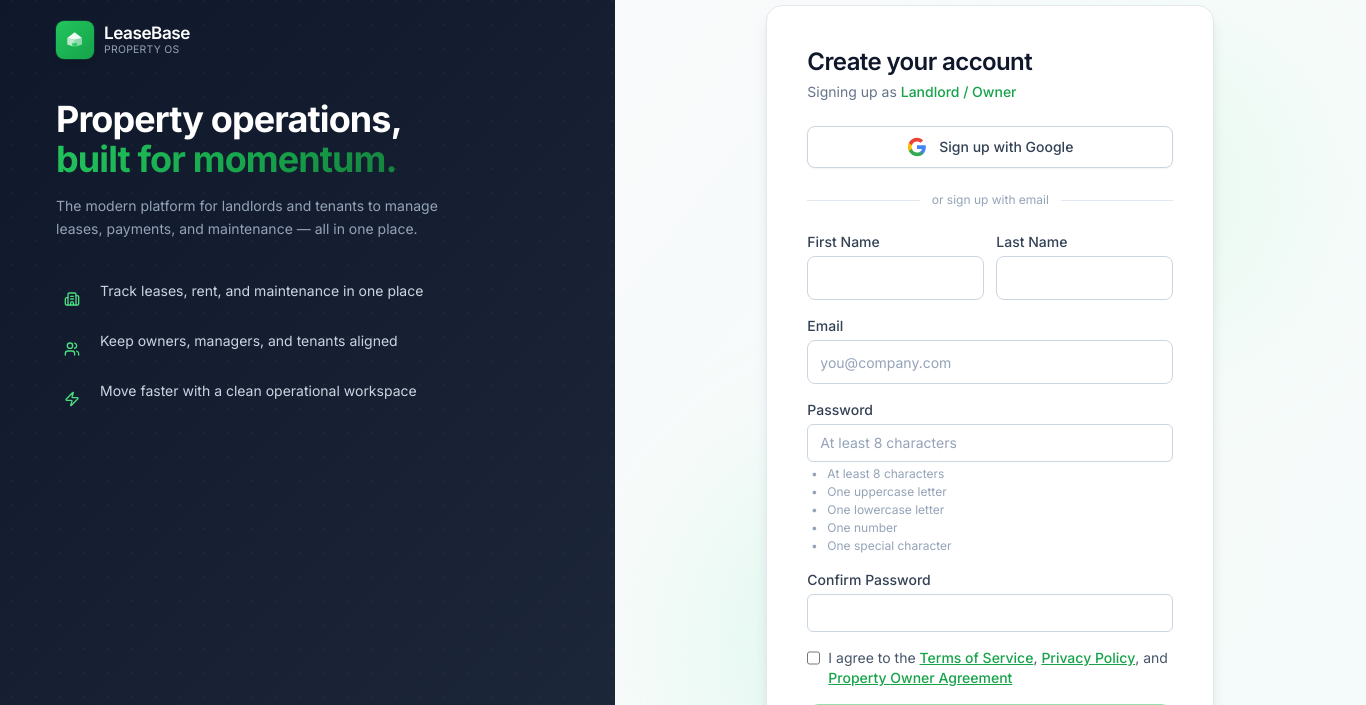
Test case: Register page — password validation UX › shows duplicate-email message when backend returns DUPLICATE_EMAIL code
Type "Smoke" into the field labelled "First Name".
click(896, 278); type("Smoke")  # box [807,256,984,300]
Type "Test" into the field labelled "Last Name".
click(1085, 278); type("Test")  # box [996,256,1173,300]
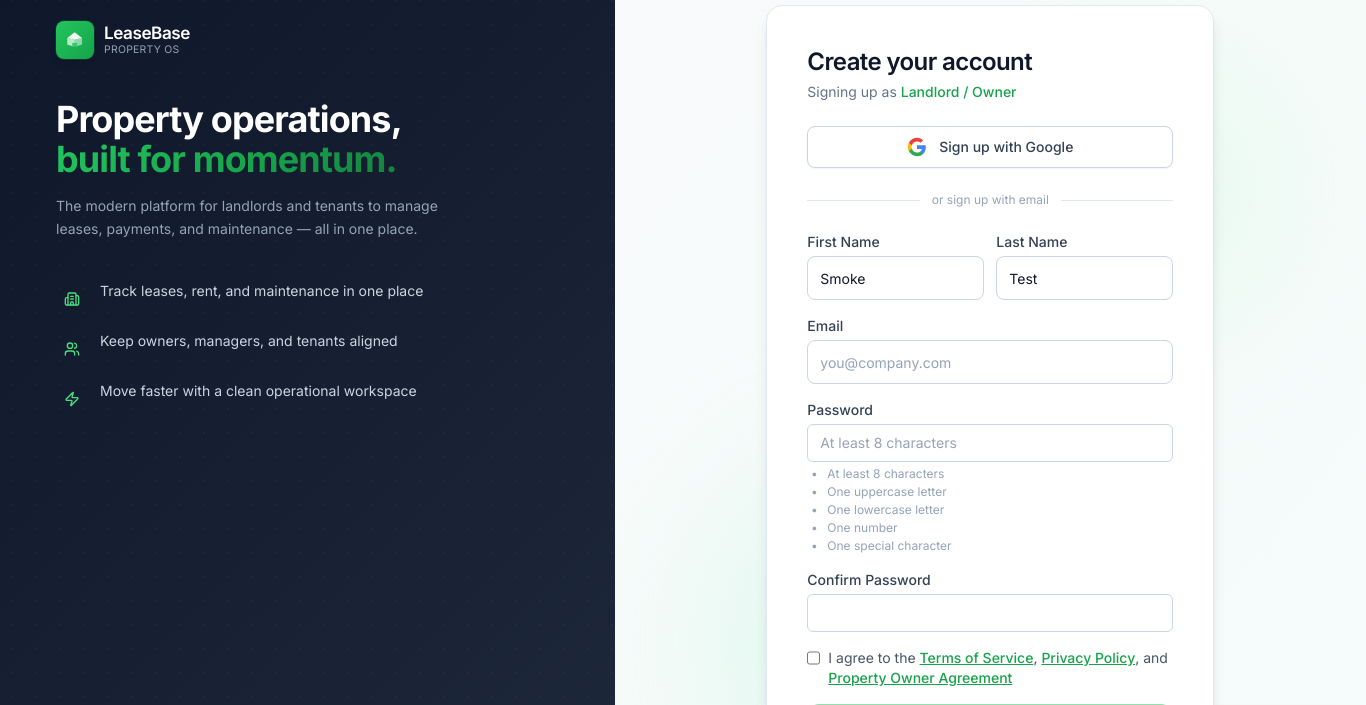
Type "a@b.co" into the field labelled "Email".
click(990, 362); type("a@b.co")  # box [807,340,1173,384]
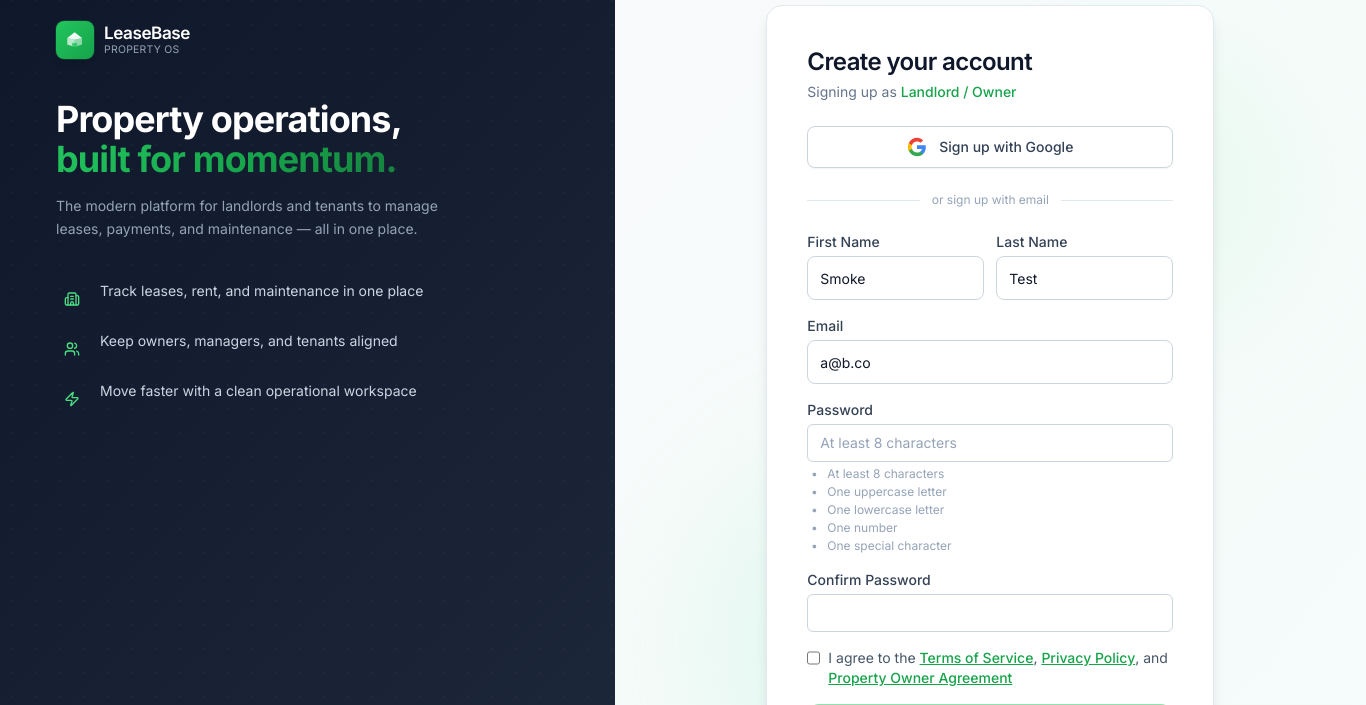
Click the checkbox.
click(814, 658)  # box [807,650,820,666]
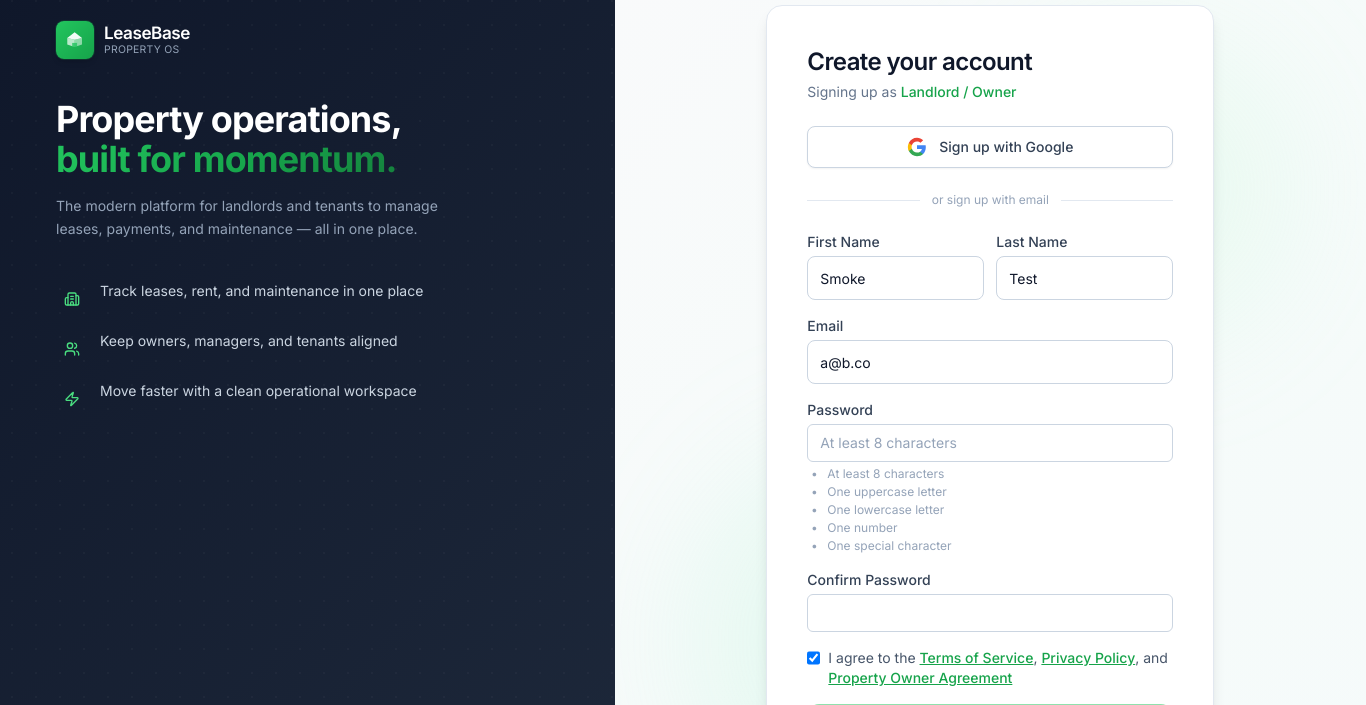
Type "GoodP@ss1" into the password field labelled "Password".
click(990, 443); type("GoodP@ss1")  # box [807,424,1173,462]
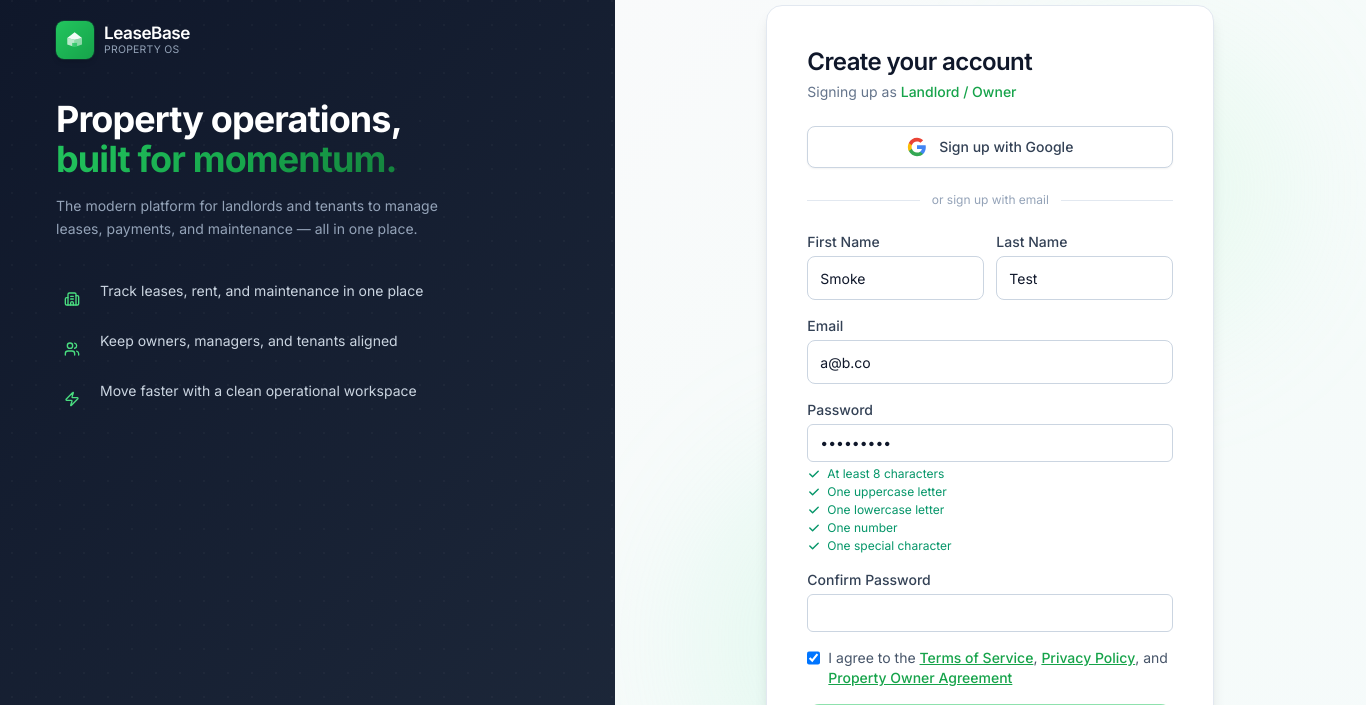
Type "GoodP@ss1" into the password field labelled "Confirm Password".
click(990, 613); type("GoodP@ss1")  # box [807,594,1173,632]
(page scrolled)
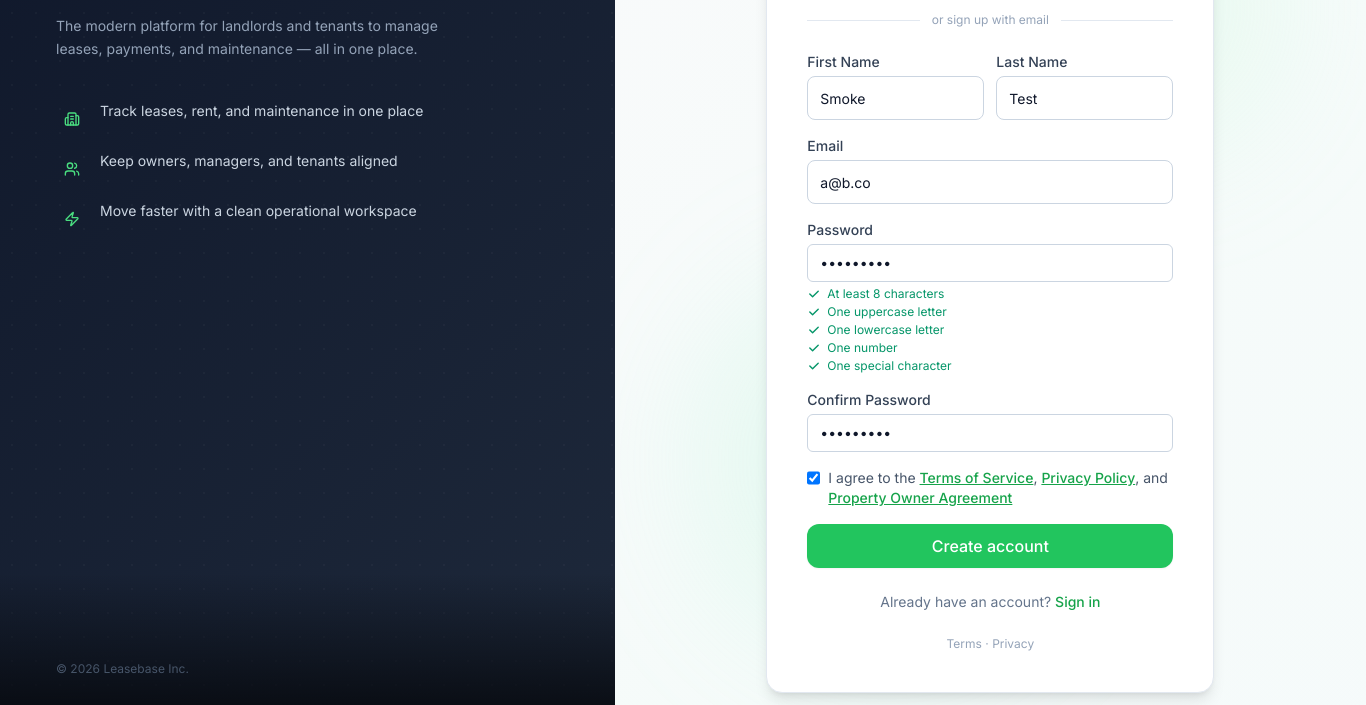
Click the button "Create account".
click(990, 546)  # box [807,524,1173,568]
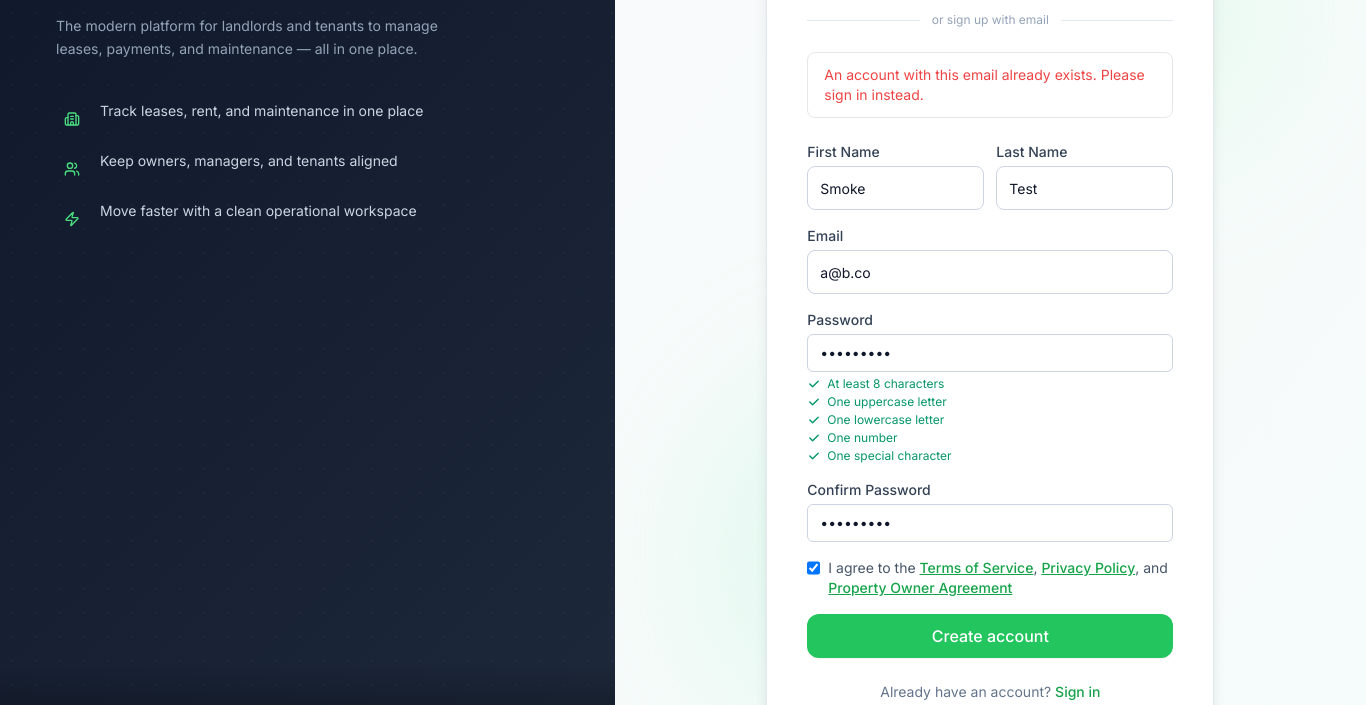
Expected: the text "An account with this email already exists. Please sign in instead." is shown, [807,52,1173,118]
